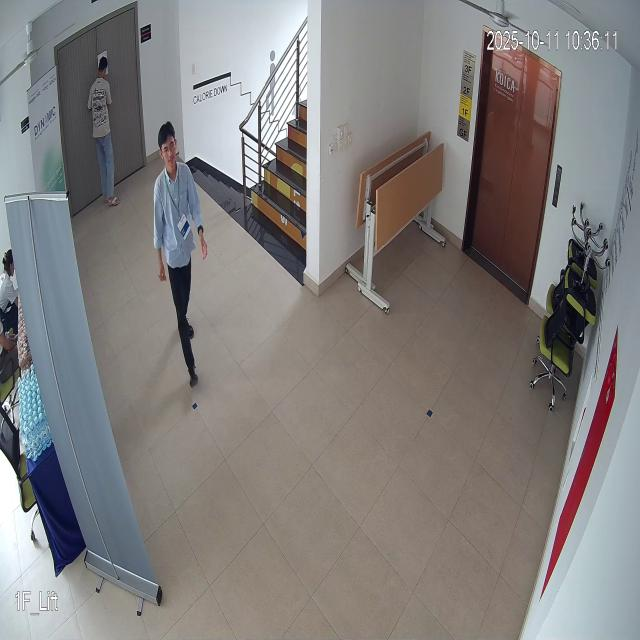face: (152, 116, 183, 179)
